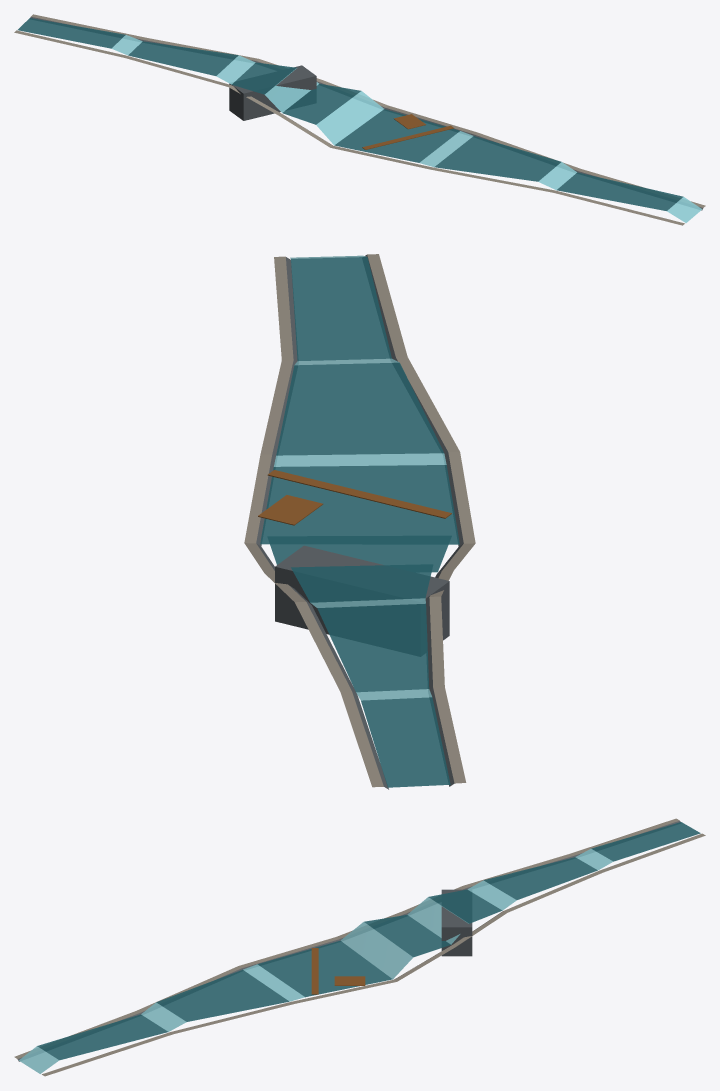
The model's file is water_thac_prenn.glb.
3 views of the same model, one above another, from view 1: azimuth 30°, elevation 25°; view 2: azimuth 150°, elevation 25°; view 3: azimuth 270°, elevation 25° (orthographic). The views are drawn at different scales.
Parts seen in each view (by area): view 1: water_terraces_water_thac_prenn, waterfall_curtain_water_thac_prenn, canyon_walkway_water_thac_prenn, prenn_arch_basalt_waterfall_ledge, basalt_canyon_embankments_water_thac_prenn, prenn_plunge_pool_wooden_arch_bridge; view 2: water_terraces_water_thac_prenn, canyon_walkway_water_thac_prenn, basalt_canyon_embankments_water_thac_prenn, waterfall_curtain_water_thac_prenn, prenn_arch_basalt_waterfall_ledge, prenn_plunge_pool_wooden_arch_bridge, prenn_lakeside_wooden_boat_pavilion; view 3: water_terraces_water_thac_prenn, waterfall_curtain_water_thac_prenn, canyon_walkway_water_thac_prenn, prenn_arch_basalt_waterfall_ledge, basalt_canyon_embankments_water_thac_prenn.
Part boxes in pixels (box(x1,y1,x2,y2)): water_terraces_water_thac_prenn: box(17, 18, 683, 210); waterfall_curtain_water_thac_prenn: box(111, 35, 702, 222); canyon_walkway_water_thac_prenn: box(14, 14, 705, 225); prenn_arch_basalt_waterfall_ledge: box(229, 65, 316, 120); basalt_canyon_embankments_water_thac_prenn: box(30, 16, 703, 210); prenn_plunge_pool_wooden_arch_bridge: box(362, 125, 454, 149); water_terraces_water_thac_prenn: box(260, 257, 459, 787); canyon_walkway_water_thac_prenn: box(244, 254, 475, 787); basalt_canyon_embankments_water_thac_prenn: box(256, 255, 463, 789); waterfall_curtain_water_thac_prenn: box(274, 255, 446, 700); prenn_arch_basalt_waterfall_ledge: box(275, 545, 449, 640); prenn_plunge_pool_wooden_arch_bridge: box(267, 470, 451, 518); prenn_lakeside_wooden_boat_pavilion: box(258, 495, 323, 525); water_terraces_water_thac_prenn: box(37, 822, 700, 1060); waterfall_curtain_water_thac_prenn: box(19, 849, 613, 1073); canyon_walkway_water_thac_prenn: box(14, 818, 705, 1076); prenn_arch_basalt_waterfall_ledge: box(441, 889, 472, 956); basalt_canyon_embankments_water_thac_prenn: box(17, 821, 680, 1061).
Size of the model in its own units: 346 by 44.45 by 497.
